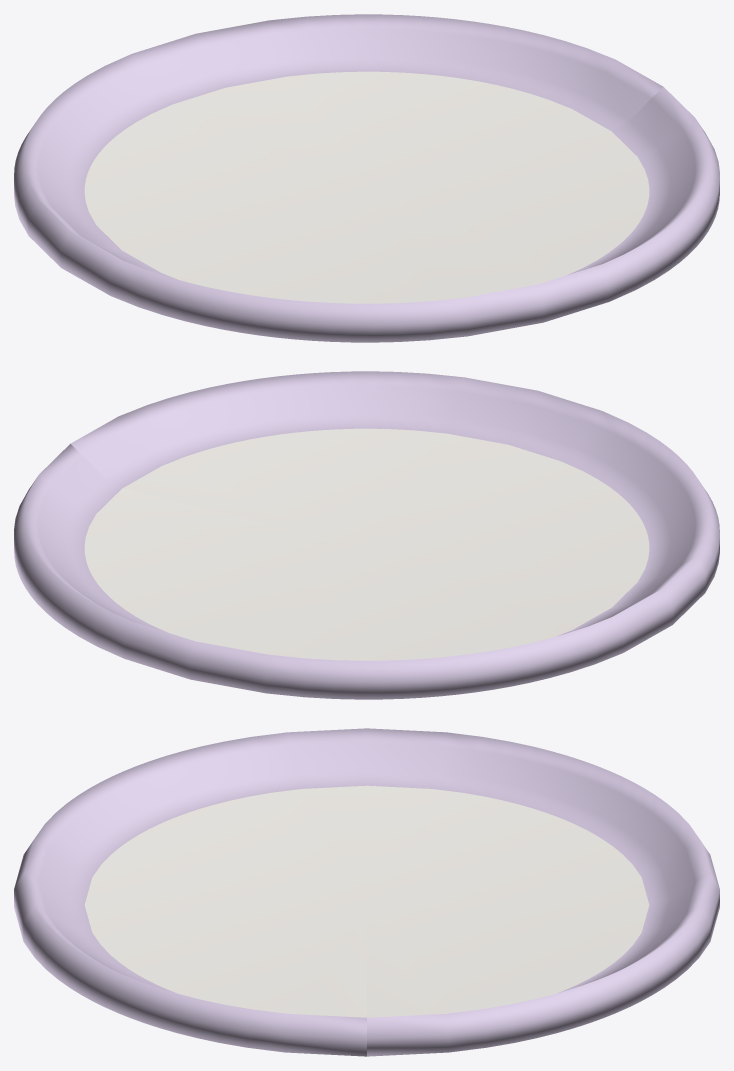
The model's file is plates_c.glb.
3 views of the same model, one above another, from view 1: azimuth 30°, elevation 25°; view 2: azimuth 150°, elevation 25°; view 3: azimuth 270°, elevation 25° (orthographic).
Visible parts, largest first — view 1: body; view 2: body; view 3: body.
Boxes of the visible parts, x1,y1,x2,y2 form: body: (14,14,719,342); body: (14,371,719,699); body: (14,728,719,1056).
Bounding box in the file's own units: 0.216 × 0.014 × 0.216.
